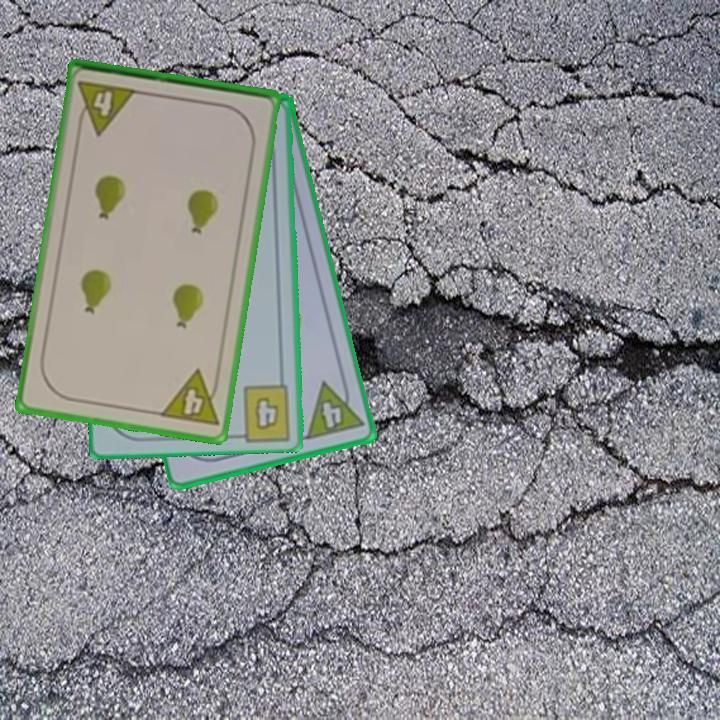4b: (251, 394, 283, 433)
4p: (302, 373, 367, 443), (156, 366, 224, 430), (74, 77, 140, 138)
